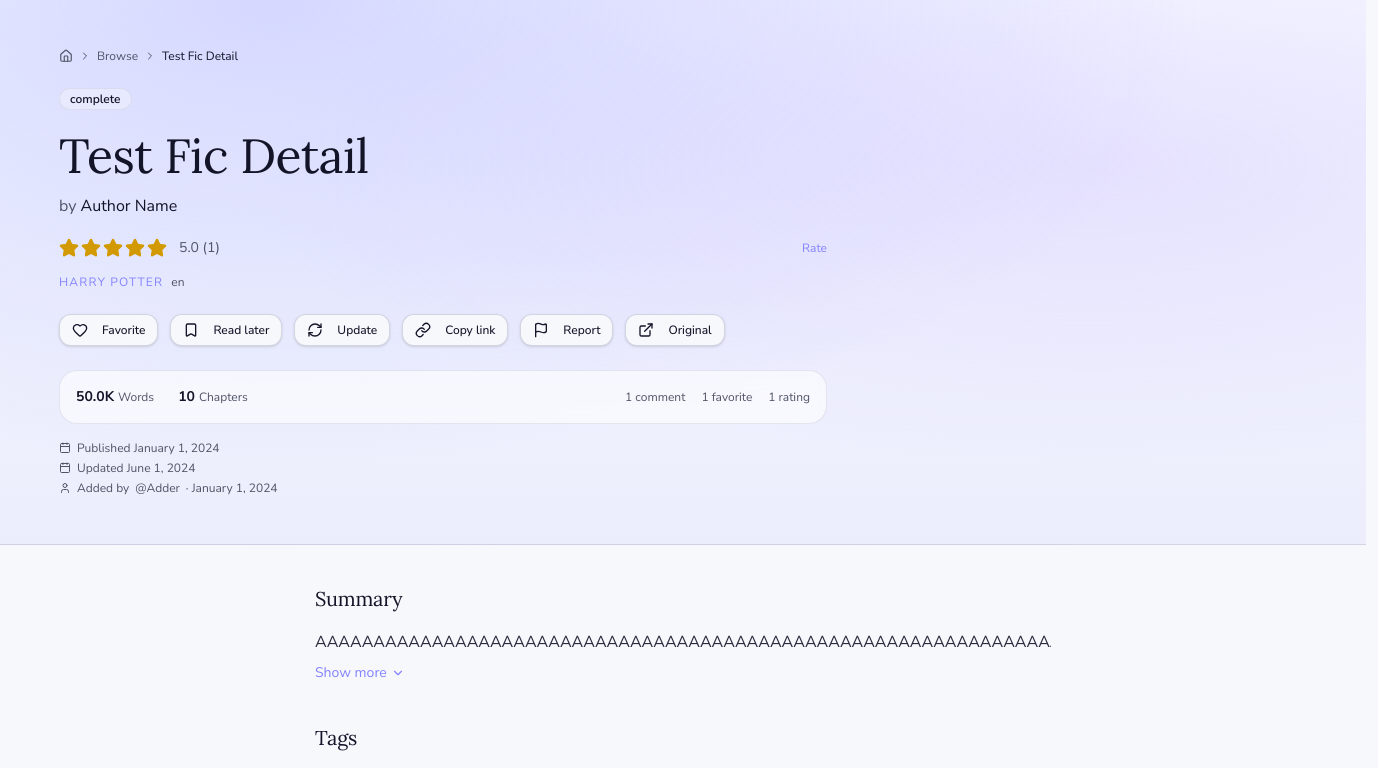
FicDetailPage › renders show more on long description
Step 1. Click the button "Show more" → point(360, 673), box top-left (315, 663), bottom-right (405, 683)
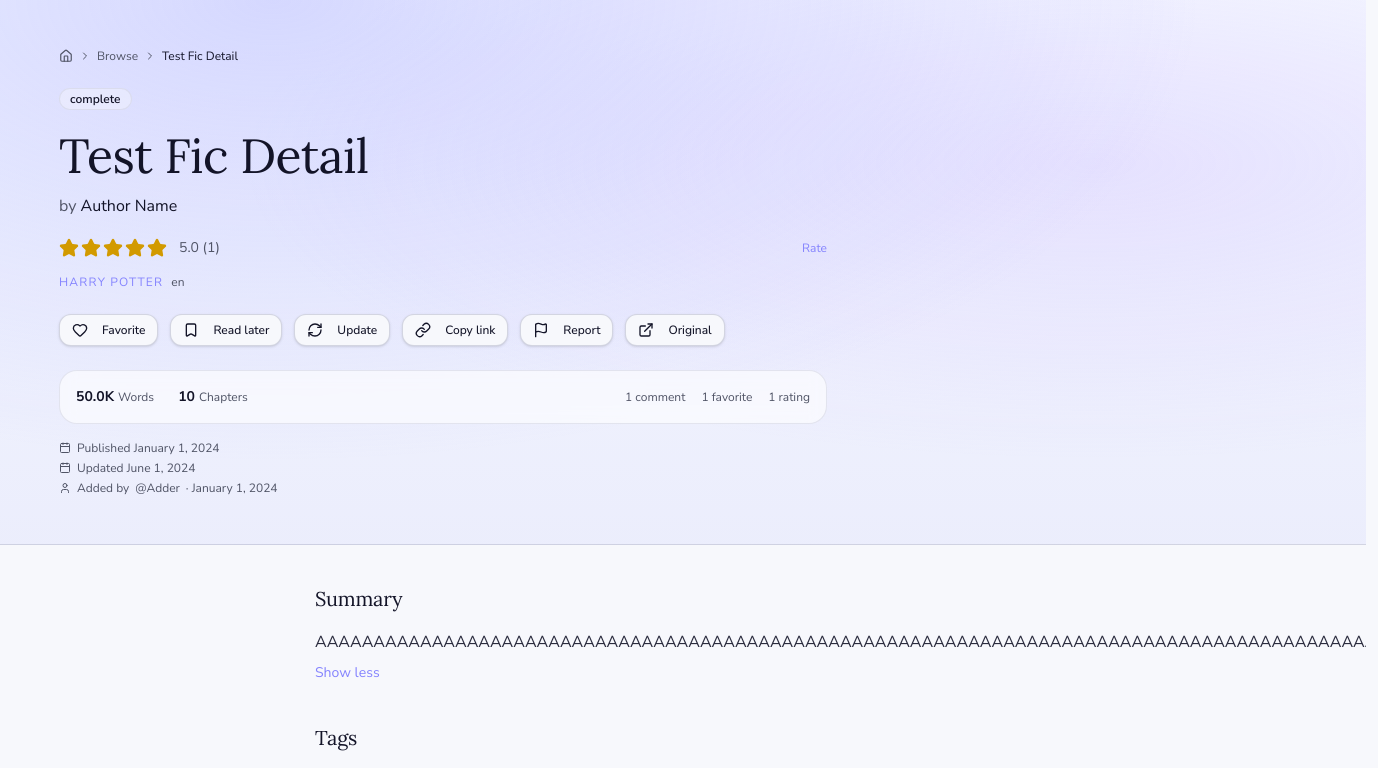
Check: the button "Show less" is shown, box top-left (315, 663), bottom-right (380, 683)
